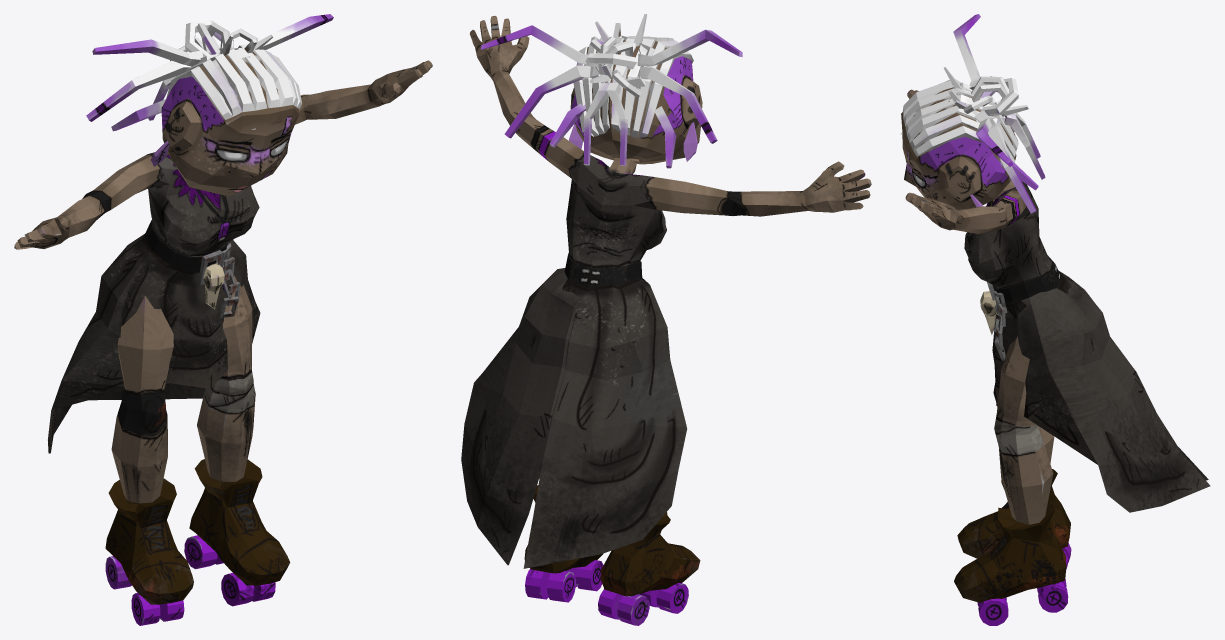
The model's file is bruja_000103.obj.
The picture shows the model from 3 angles, left to right: view 1: azimuth 30°, elevation 25°; view 2: azimuth 150°, elevation 25°; view 3: azimuth 270°, elevation 25°; orthographic projection. The views are drawn at different scales.
Parts seen in each view (by area): view 1: Bruja_Plane.001; view 2: Bruja_Plane.001; view 3: Bruja_Plane.001.
Boxes of the visible parts, x1=… form: Bruja_Plane.001: x1=14, y1=14, x2=432, y2=625; Bruja_Plane.001: x1=461, y1=14, x2=871, y2=625; Bruja_Plane.001: x1=900, y1=14, x2=1210, y2=625.
Bounding box in the file's own units: 11.84 × 16.44 × 8.59.
